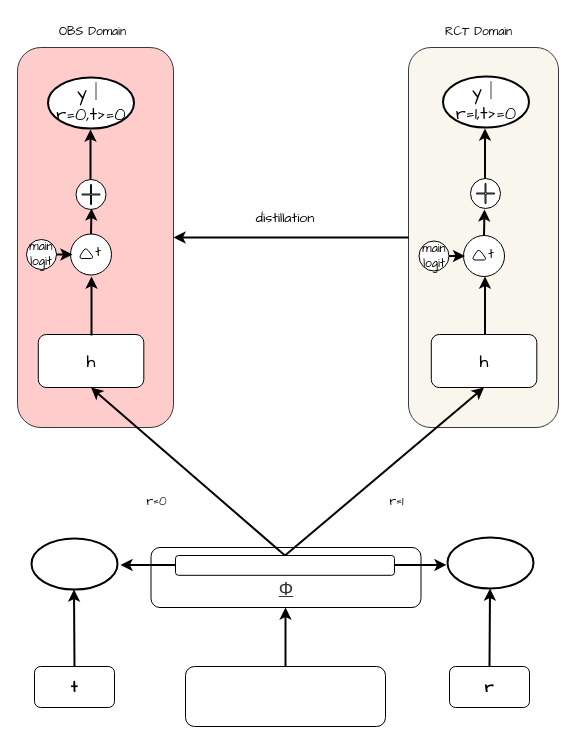
The diagram is 576 pixels wide and 744 high, and some of its shapes have lost their labels. The box of each missing label's shape, as (x1, y1, x2, y2) in pixels:
Input Features x: (184, 666, 386, 726)
IPM(r=0,r=1): (446, 536, 534, 589)
IPM(t=0,t>0): (30, 537, 118, 590)
representation: (174, 554, 394, 575)
